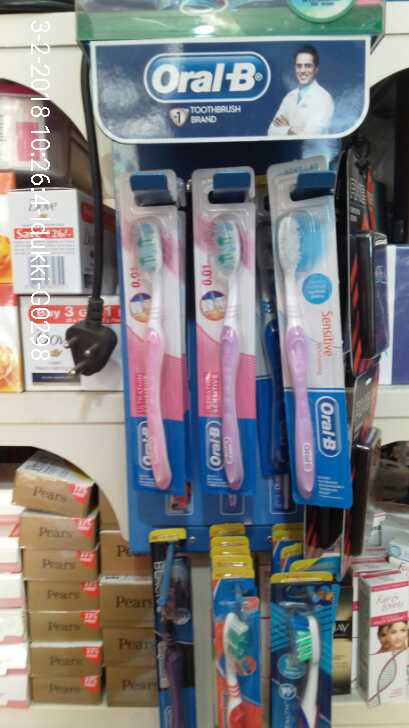oralb: (273, 185, 362, 505), (192, 178, 275, 495), (116, 176, 190, 499)
